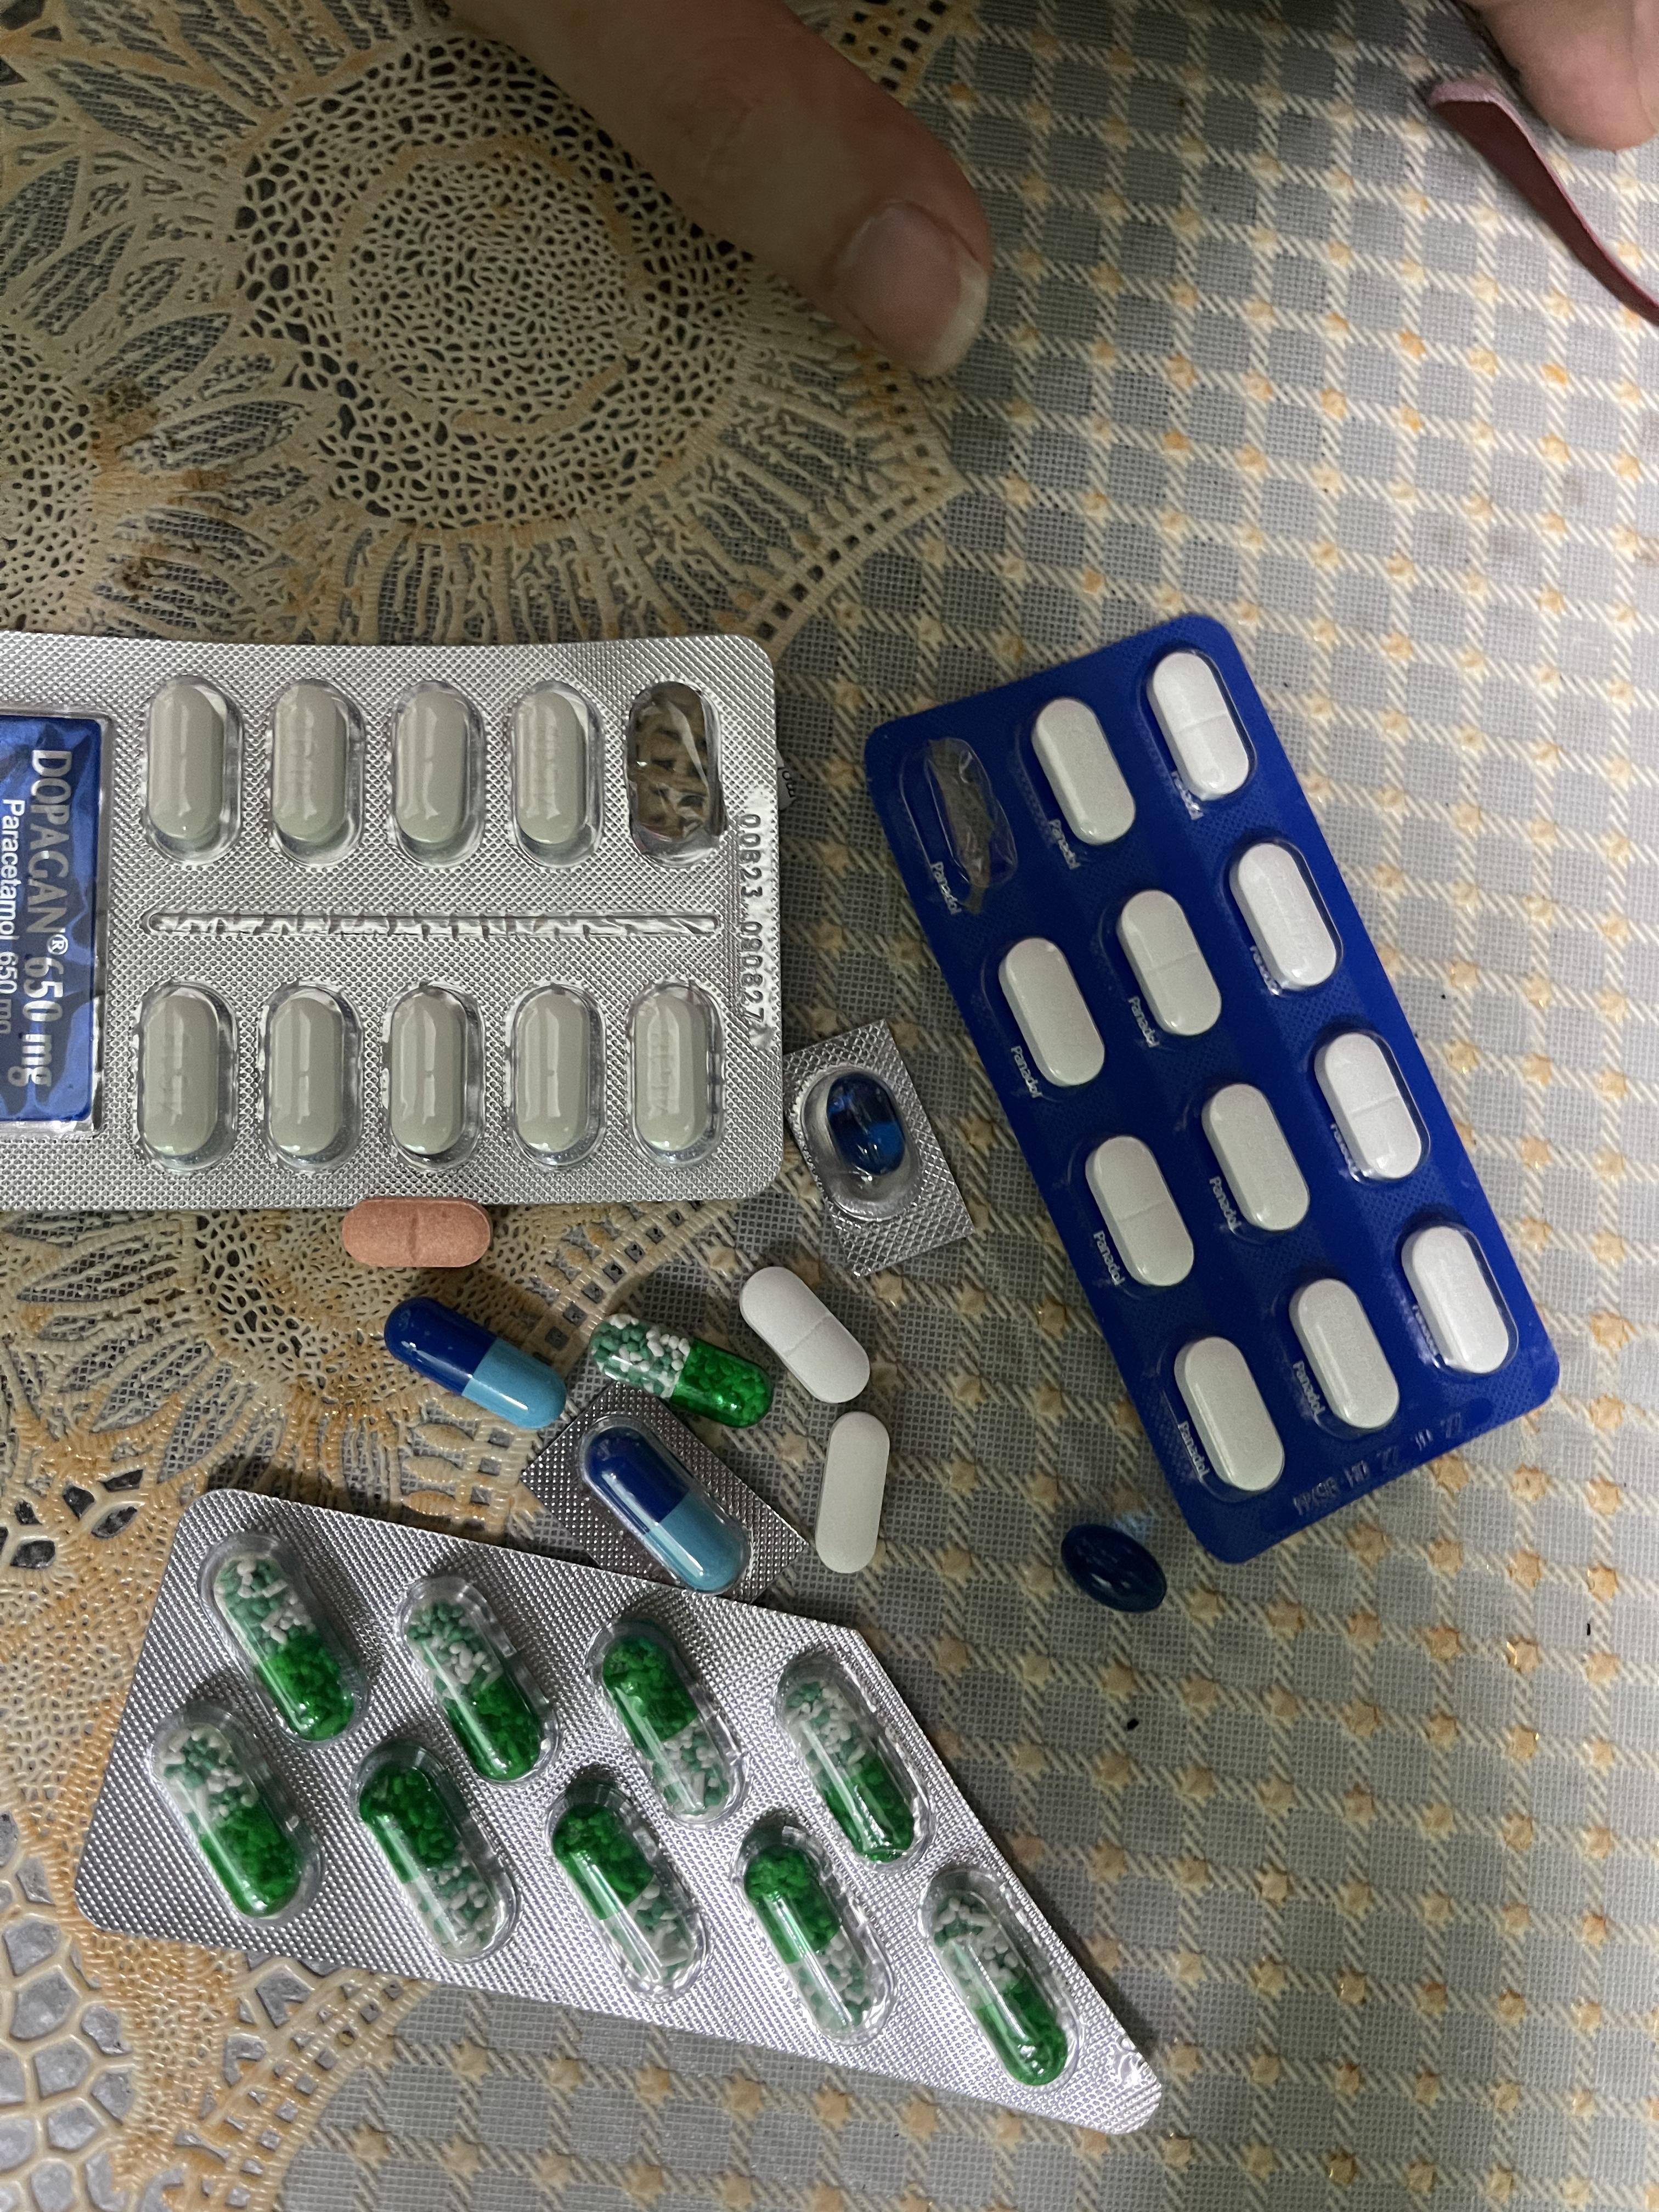Lincomyxin_500mg: (1061, 1522, 1168, 1613), (824, 1075, 906, 1183)
Loratadine_10mg: (340, 1195, 495, 1264)
Paracetamol_350mg: (1286, 1278, 1401, 1435), (742, 1263, 873, 1400), (1314, 1029, 1427, 1186), (1401, 1223, 1516, 1376), (1175, 1334, 1284, 1494), (1199, 1085, 1310, 1238), (1229, 841, 1340, 993), (1115, 890, 1222, 1042), (999, 935, 1103, 1089), (1086, 1136, 1192, 1285), (1030, 695, 1134, 843), (1150, 655, 1253, 805)
Paracetamol_500mg: (261, 984, 362, 1169), (134, 984, 234, 1167), (143, 678, 239, 864), (629, 981, 725, 1163), (385, 986, 483, 1165), (505, 681, 599, 864), (390, 683, 484, 866), (507, 984, 603, 1163), (270, 679, 361, 862), (812, 1411, 890, 1571)
Paracetamol_650mg: (148, 1696, 322, 1932), (547, 1764, 711, 2000), (356, 1728, 518, 1963), (734, 1811, 889, 2054), (922, 1855, 1073, 2088), (397, 1575, 558, 1780), (202, 1531, 366, 1731), (592, 1615, 749, 1824), (779, 1649, 927, 1865), (584, 1313, 772, 1428)
pill: (577, 1420, 755, 1597), (383, 1298, 570, 1426)
